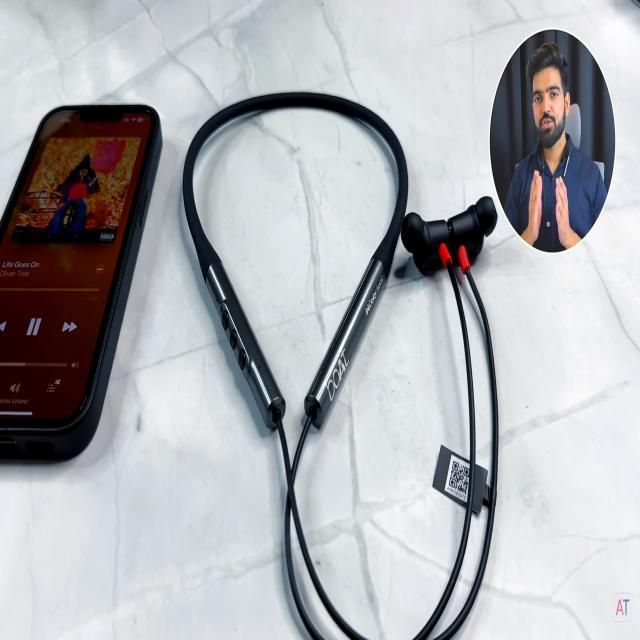Neckband: (181, 88, 501, 640)
